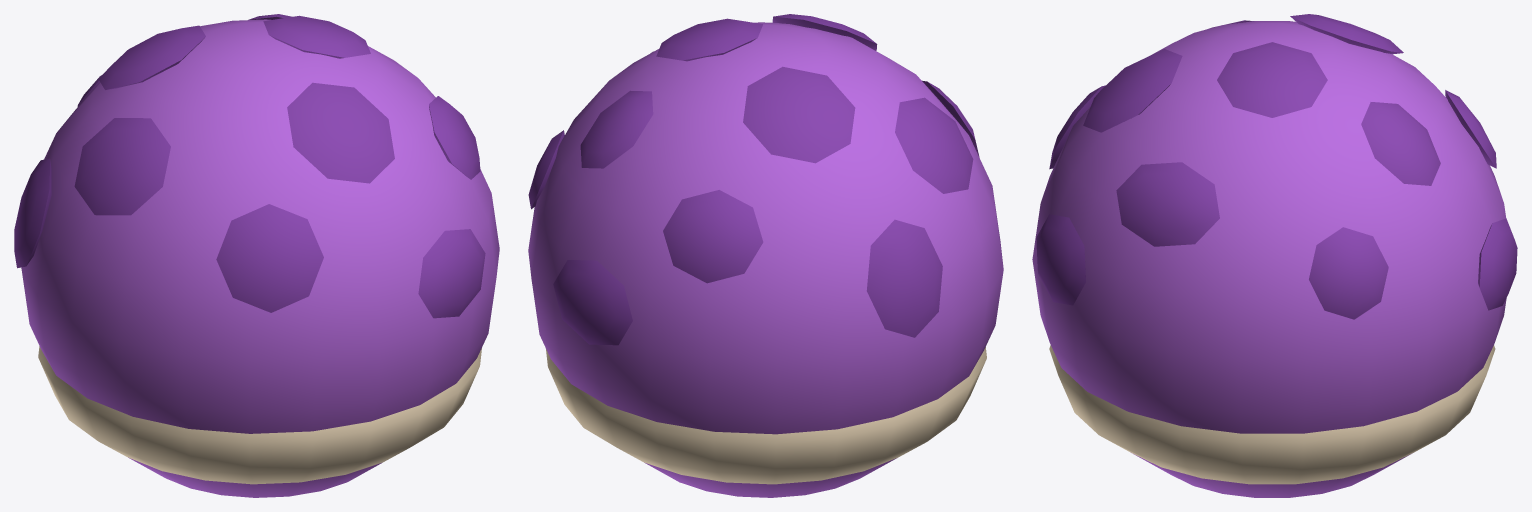
Rendered from serpent_segment.glb.
The picture shows the model from 3 angles, left to right: view 1: azimuth 30°, elevation 25°; view 2: azimuth 150°, elevation 25°; view 3: azimuth 270°, elevation 25°; orthographic projection.
Visible parts, largest first — view 1: serpent_segment; view 2: serpent_segment; view 3: serpent_segment.
Boxes of the visible parts, x1,y1,x2,y2 form: serpent_segment: [14, 14, 499, 497]; serpent_segment: [528, 14, 1003, 497]; serpent_segment: [1032, 14, 1517, 497].
Size of the model in its own units: 0.3365 by 0.3453 by 0.3438.
